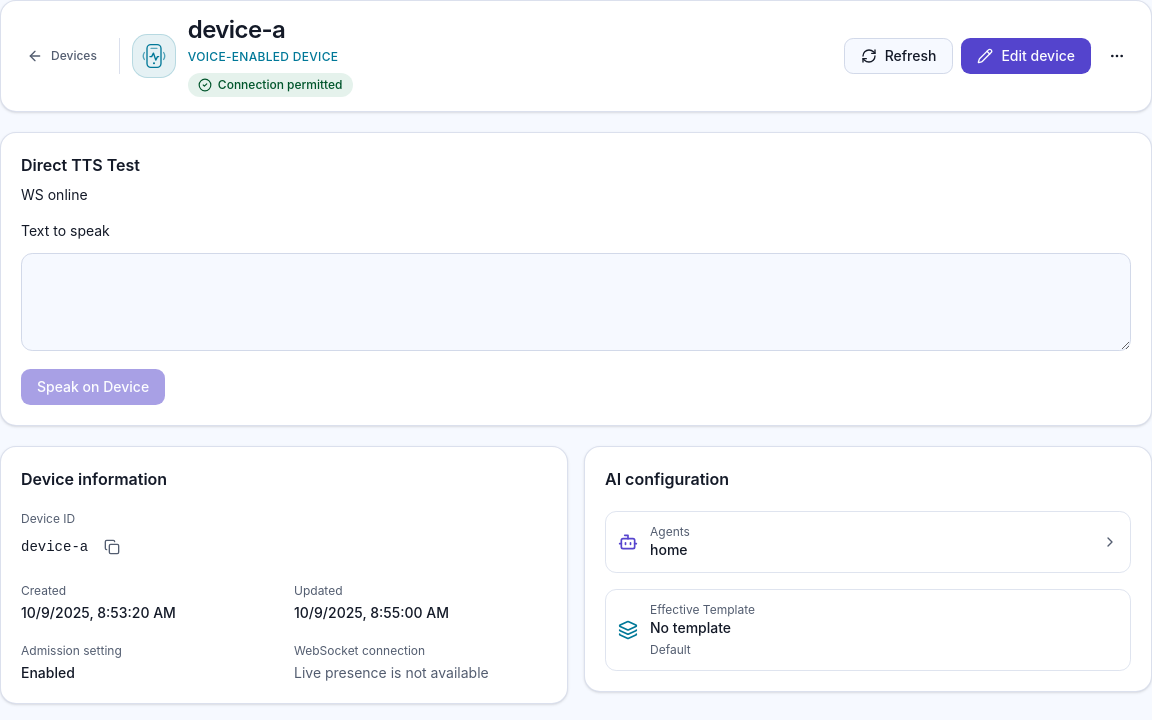
it: DeviceDetailPage › shows live presence and labels admitted direct speech as awaiting playback
The image size is (1152, 720).
Step 1. Type "hello from admin" into the text box with id "direct-speech-text" → (576, 302), box [21,253,1131,351]
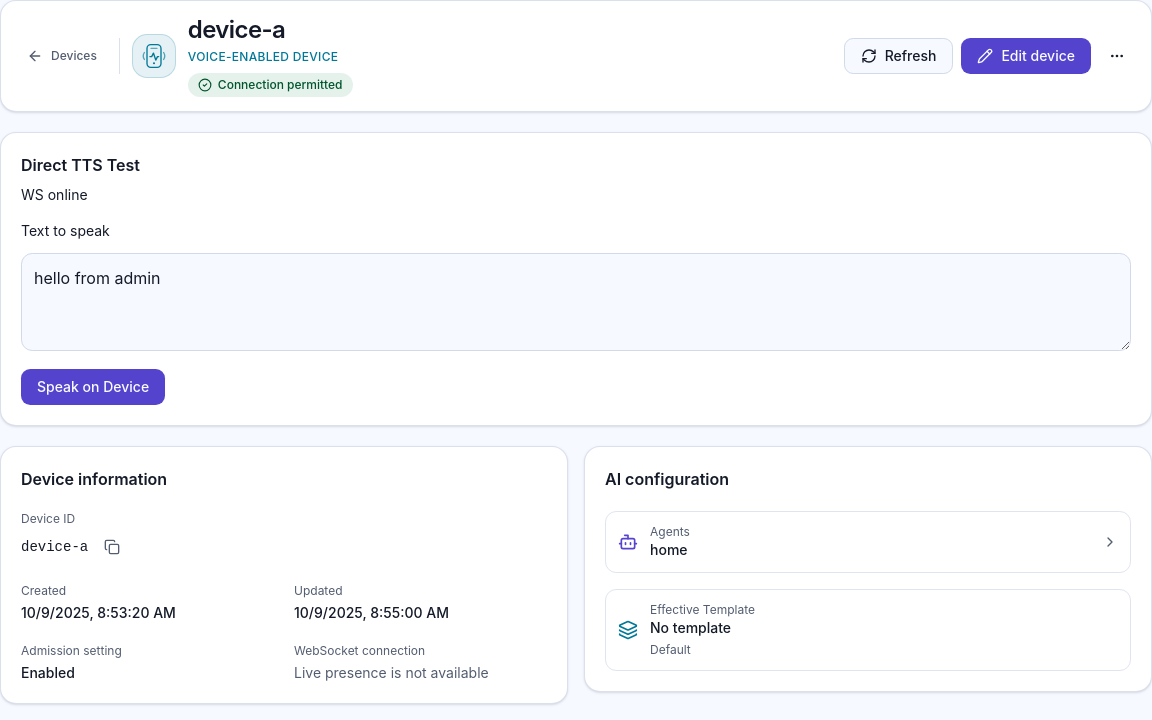
Step 2. Submit the form, box [21,221,1131,405]
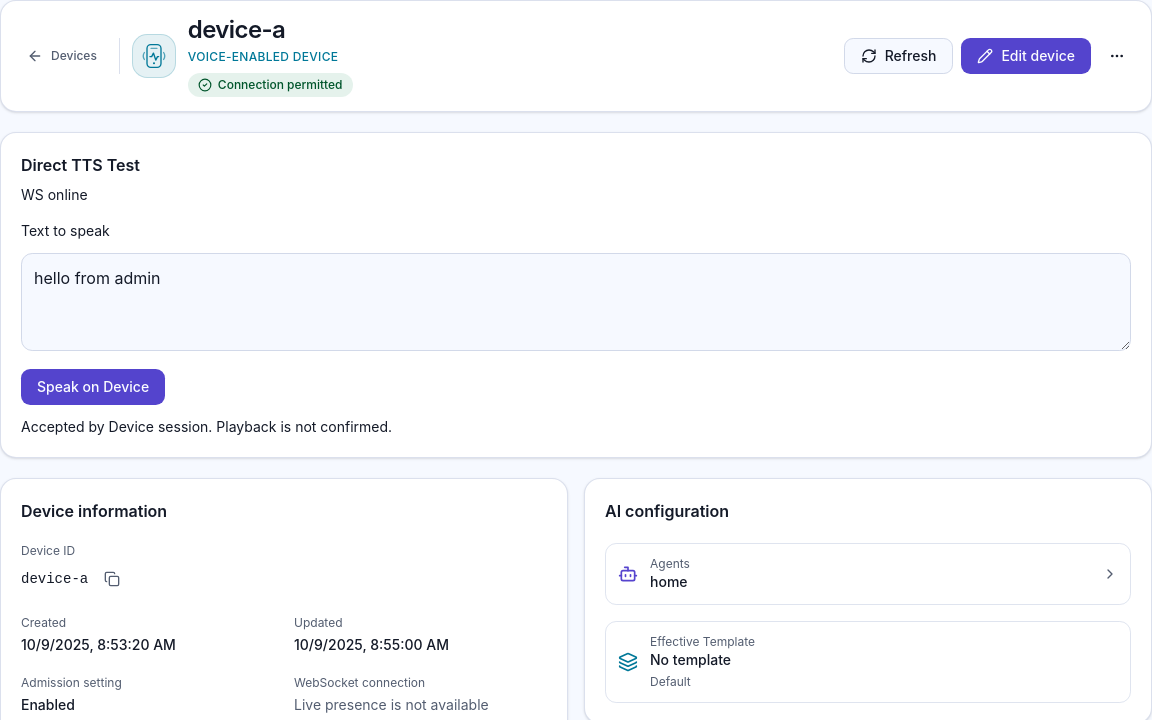
Expected: the message "Accepted by Device session. Playback is not confirmed." is shown, [21,418,392,435]
